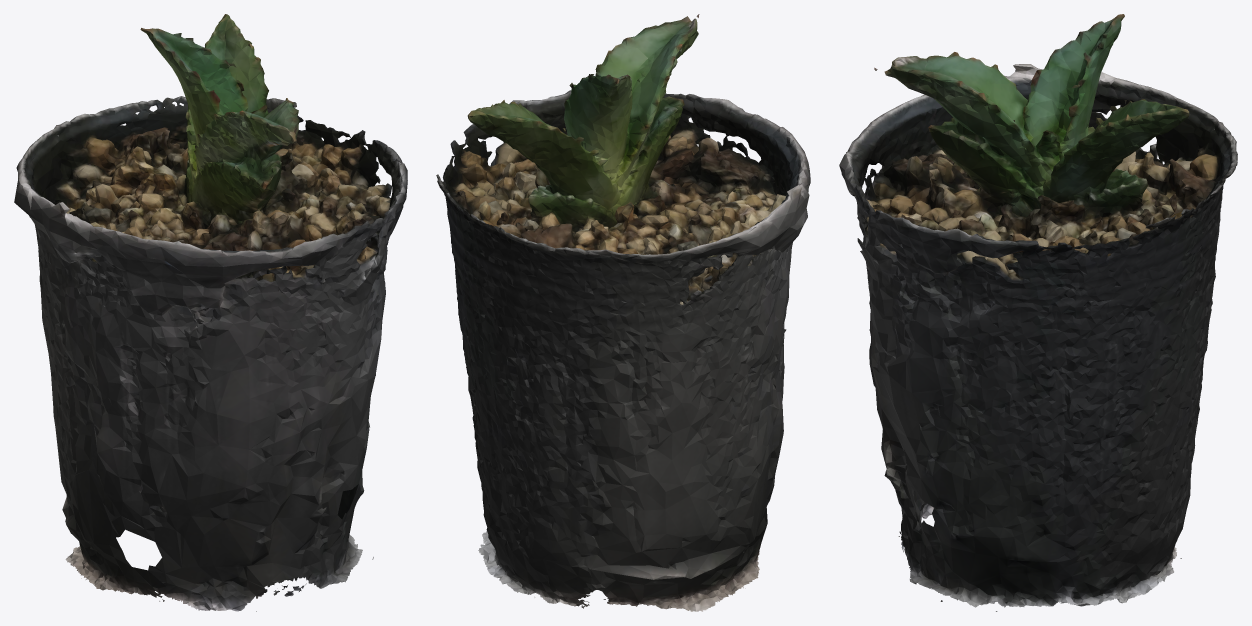
Rendered from agave_titanota_small_resized.glb.
3 views of the same model, side by side, from view 1: azimuth 30°, elevation 25°; view 2: azimuth 150°, elevation 25°; view 3: azimuth 270°, elevation 25° (orthographic). The views are drawn at different scales.
Parts seen in each view (by area): view 1: agave_titanota_small; view 2: agave_titanota_small; view 3: agave_titanota_small.
Boxes of the visible parts, x1,y1,x2,y2 form: agave_titanota_small: [14, 14, 407, 611]; agave_titanota_small: [436, 14, 810, 611]; agave_titanota_small: [839, 14, 1237, 611].
Bounding box in the file's own units: 1.86 × 2.74 × 1.89.
Materials: 1 (1 with a texture image).
